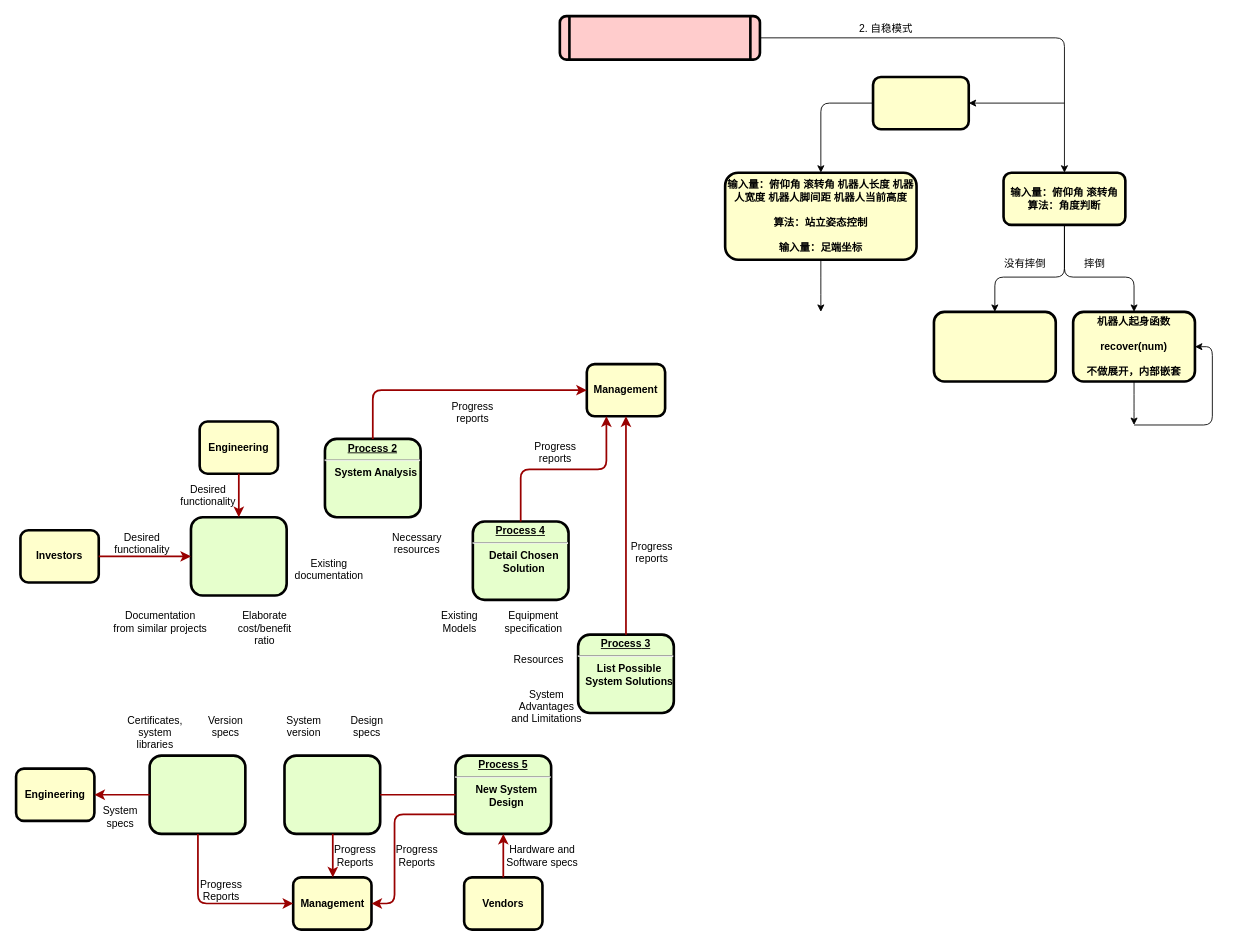
This 1235x946 diagram has some shape labels left out. The shapes that lost their labels are listed below. From the top down, each one's box as (x1, y1, x2, y2) in pixels, then its label:
(558, 14, 761, 60): 控制信号 1. 行走模式：前后左右，前倾后仰侧身 2. 自稳模式
(871, 75, 970, 130): 次循环 陀螺仪获取姿态值
(932, 310, 1057, 382): 输入量：俯仰角 滚转角 算法：站立姿态控制 输出量：足端坐标
(189, 515, 288, 596): Process 1 System Study Preparation
(148, 754, 246, 835): Process 6 New System Construction
(283, 754, 381, 835): Process 7 New System Startup and Testing
